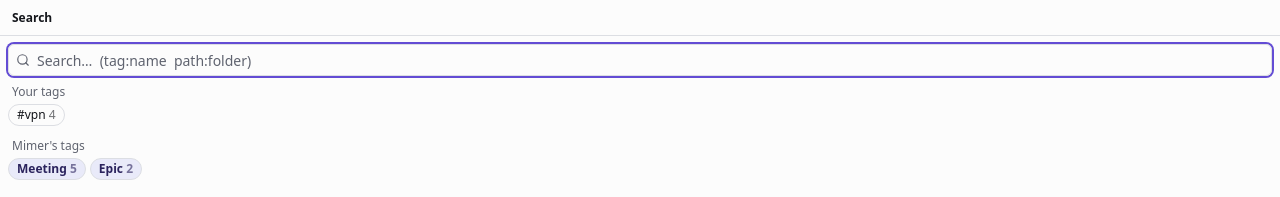
Test: SearchPanel › lists your tags and Mimer's tags in two groups, and a click writes tag: in the box
Expected: the text "Your tags" is shown, [12,84,65,100]
Expected: the text "Mimer's tags" is shown, [12,137,85,154]
Click the button "Meeting 5": click(47, 169) [8,158,86,180]
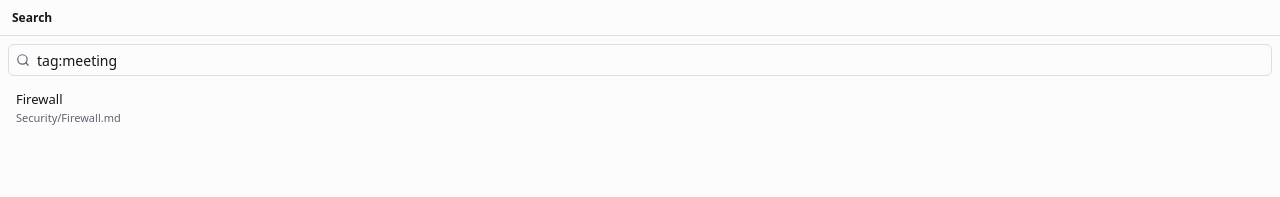
Expected: the field named "Search notes" holds "tag:meeting", [8,44,1272,76]
